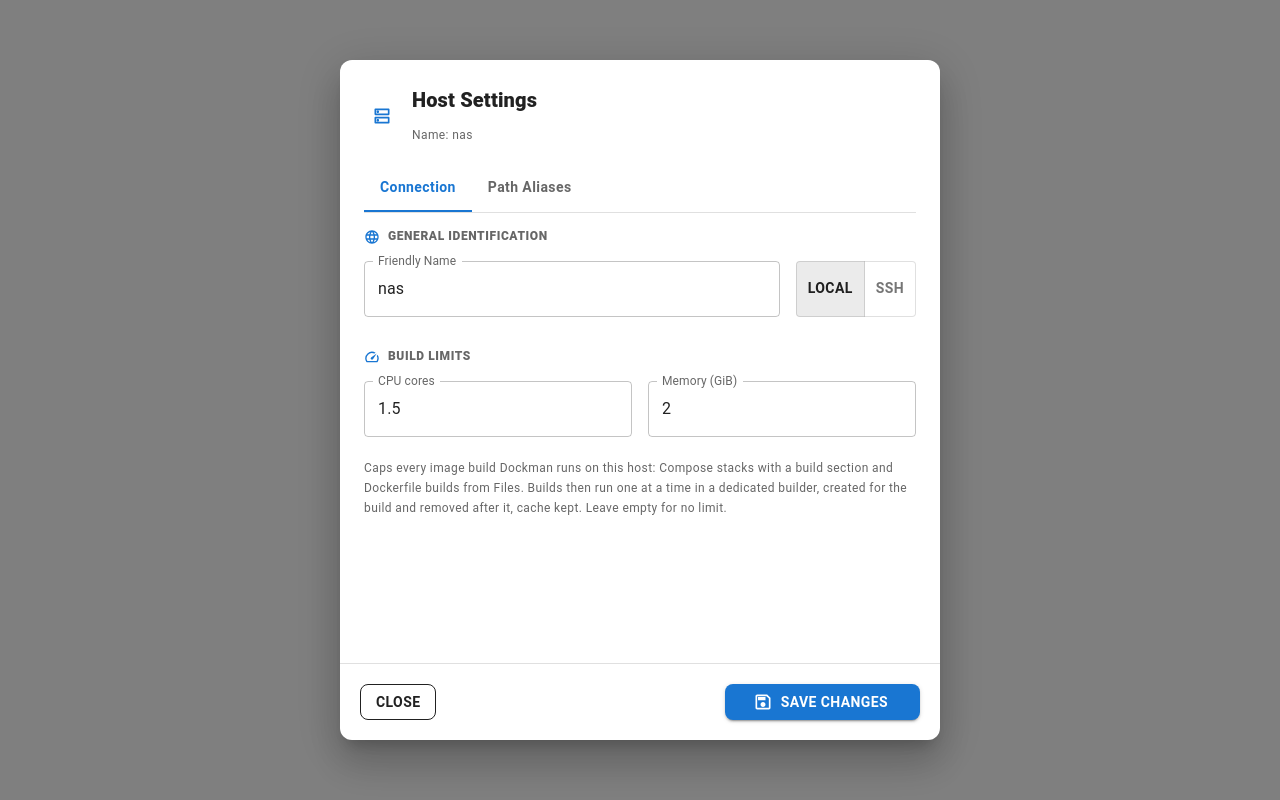
it: HostWizardDialog build limits › refuses text that is not a number
Replace the text in the field named "Build memory GiB" with "two": (782, 409) x1=648 y1=381 x2=916 y2=437
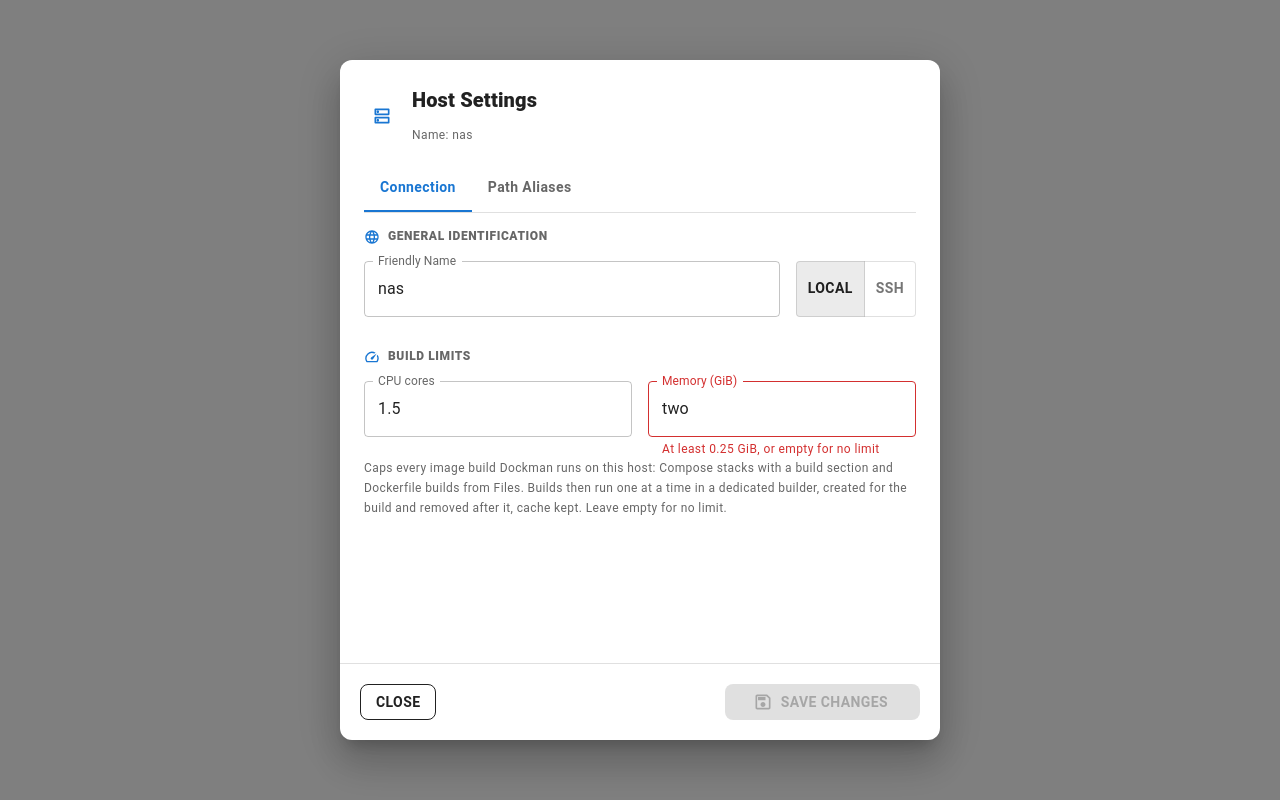
Check: the button "Save Changes" is disabled, box x1=725 y1=684 x2=920 y2=720
Check: the text "At least 0.25 GiB, or empty for no limit" is shown, box x1=662 y1=440 x2=902 y2=460
